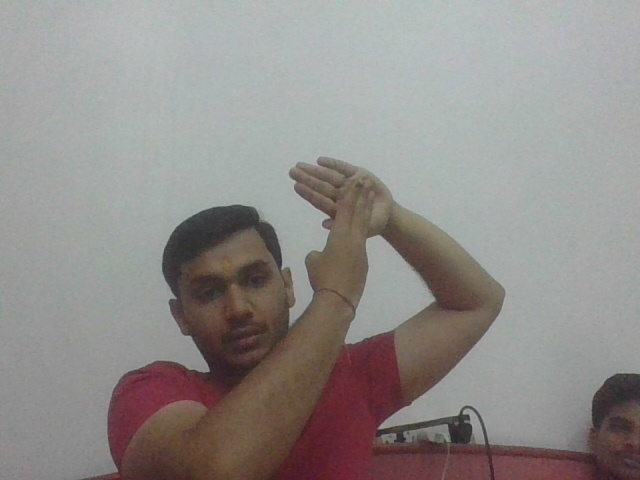M: (283, 154, 392, 268)
